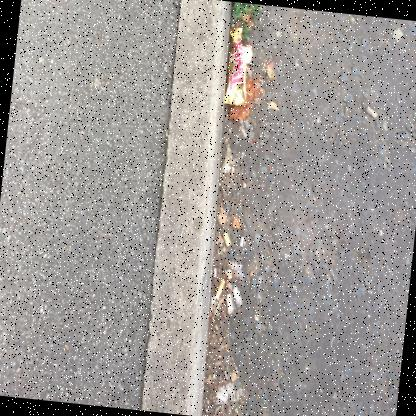Cigarette: (362, 103, 377, 118), (214, 278, 224, 300), (232, 285, 242, 307), (222, 230, 231, 246), (226, 293, 232, 314), (239, 236, 244, 247), (213, 267, 216, 277)
Other plastic: (224, 25, 252, 105)
